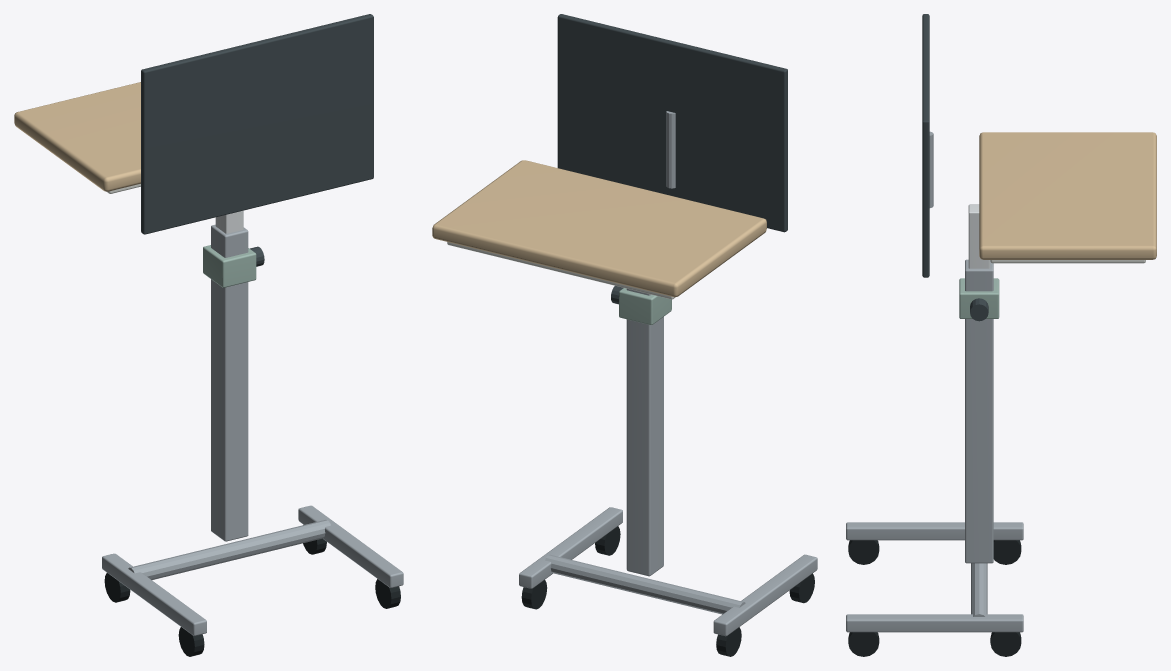
Rendered from tablet_table.fbx.
3 renders of one model, left to right at view 1: azimuth 30°, elevation 25°; view 2: azimuth 150°, elevation 25°; view 3: azimuth 270°, elevation 25°, orthographic. The views are drawn at different scales.
Parts seen in each view (by area): view 1: EQ_tablet_table_M_PlasticGrey, EQ_tablet_table_M_SteelBrushed, EQ_tablet_table_M_Oak, EQ_tablet_table_M_RubberBlack, EQ_tablet_table_M_Sage; view 2: EQ_tablet_table_M_PlasticGrey, EQ_tablet_table_M_Oak, EQ_tablet_table_M_SteelBrushed, EQ_tablet_table_M_RubberBlack, EQ_tablet_table_M_Sage, EQ_tablet_table_M_Ivory; view 3: EQ_tablet_table_M_Oak, EQ_tablet_table_M_SteelBrushed, EQ_tablet_table_M_RubberBlack, EQ_tablet_table_M_PlasticGrey, EQ_tablet_table_M_Sage, EQ_tablet_table_M_PlasticWhite, EQ_tablet_table_M_Ivory.
Part boxes in pixels (x1,y1,x2,y2): EQ_tablet_table_M_PlasticGrey: (141, 14, 373, 266); EQ_tablet_table_M_SteelBrushed: (102, 224, 403, 635); EQ_tablet_table_M_Oak: (14, 82, 140, 191); EQ_tablet_table_M_RubberBlack: (104, 538, 400, 656); EQ_tablet_table_M_Sage: (203, 245, 256, 287); EQ_tablet_table_M_PlasticGrey: (557, 14, 787, 304); EQ_tablet_table_M_Oak: (432, 160, 766, 297); EQ_tablet_table_M_SteelBrushed: (519, 111, 817, 636); EQ_tablet_table_M_RubberBlack: (521, 526, 814, 656); EQ_tablet_table_M_Sage: (619, 288, 671, 324); EQ_tablet_table_M_Ivory: (447, 242, 675, 299); EQ_tablet_table_M_Oak: (979, 132, 1156, 259); EQ_tablet_table_M_SteelBrushed: (846, 131, 1023, 632); EQ_tablet_table_M_RubberBlack: (848, 540, 1021, 656); EQ_tablet_table_M_PlasticGrey: (922, 14, 988, 321); EQ_tablet_table_M_Sage: (959, 278, 999, 318); EQ_tablet_table_M_PlasticWhite: (968, 204, 989, 268); EQ_tablet_table_M_Ivory: (990, 260, 1145, 263).
Size of the model in its own units: 0.62 by 1.35 by 0.7.
